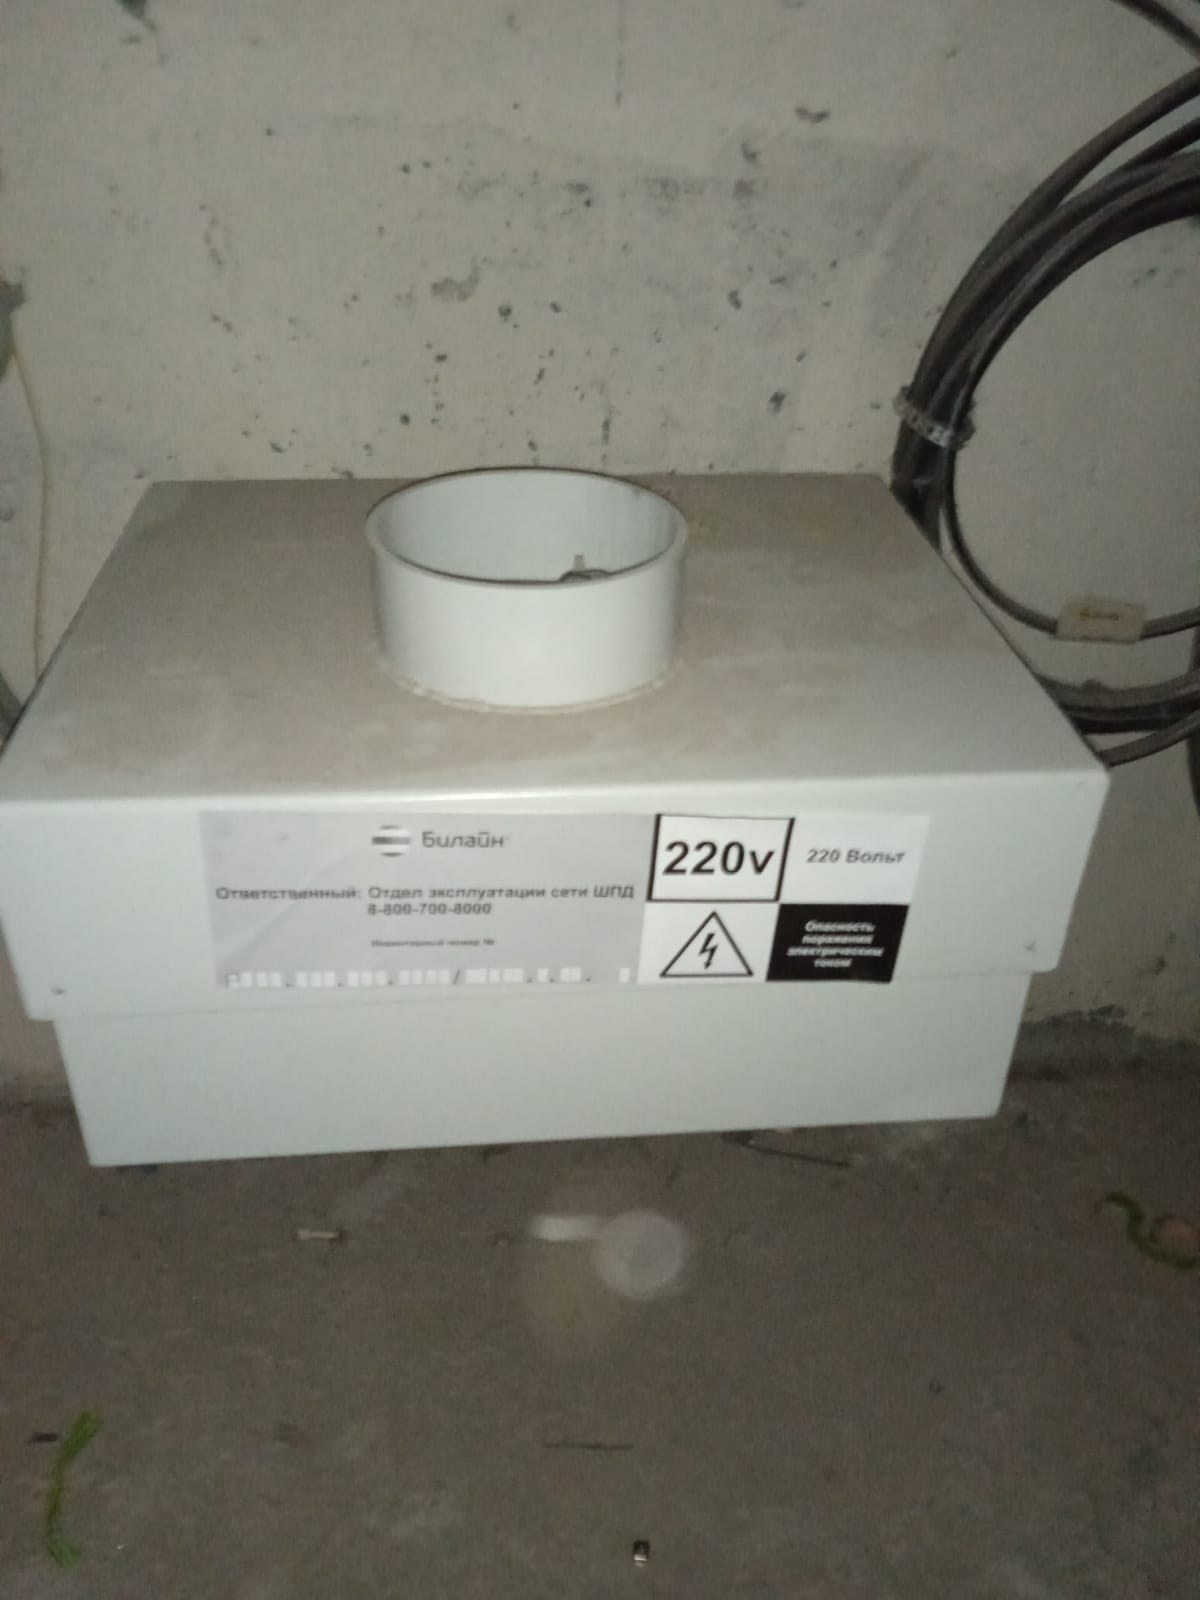shta-ps: (9, 447, 1131, 1179)
